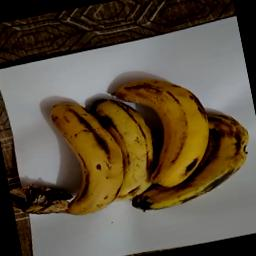Banana Unripe: (6, 60, 256, 234)
